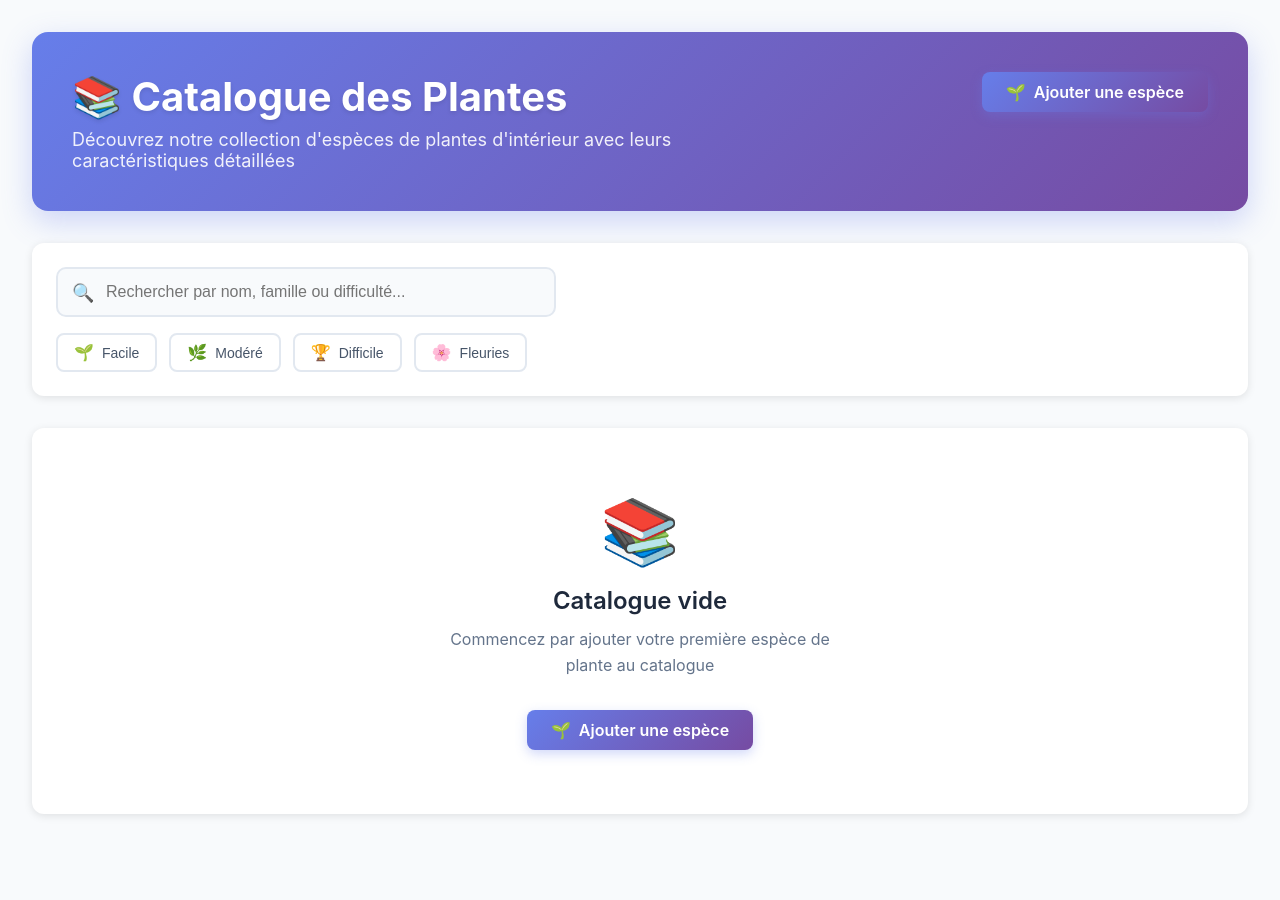
IndoorPlants.vue › affiche le formulaire d'ajout
Step 1. Click the button "🌱 Ajouter une espèce" in the row of "📚 Catalogue des Plantes" → x=1095, y=92, box [982,72,1208,112]
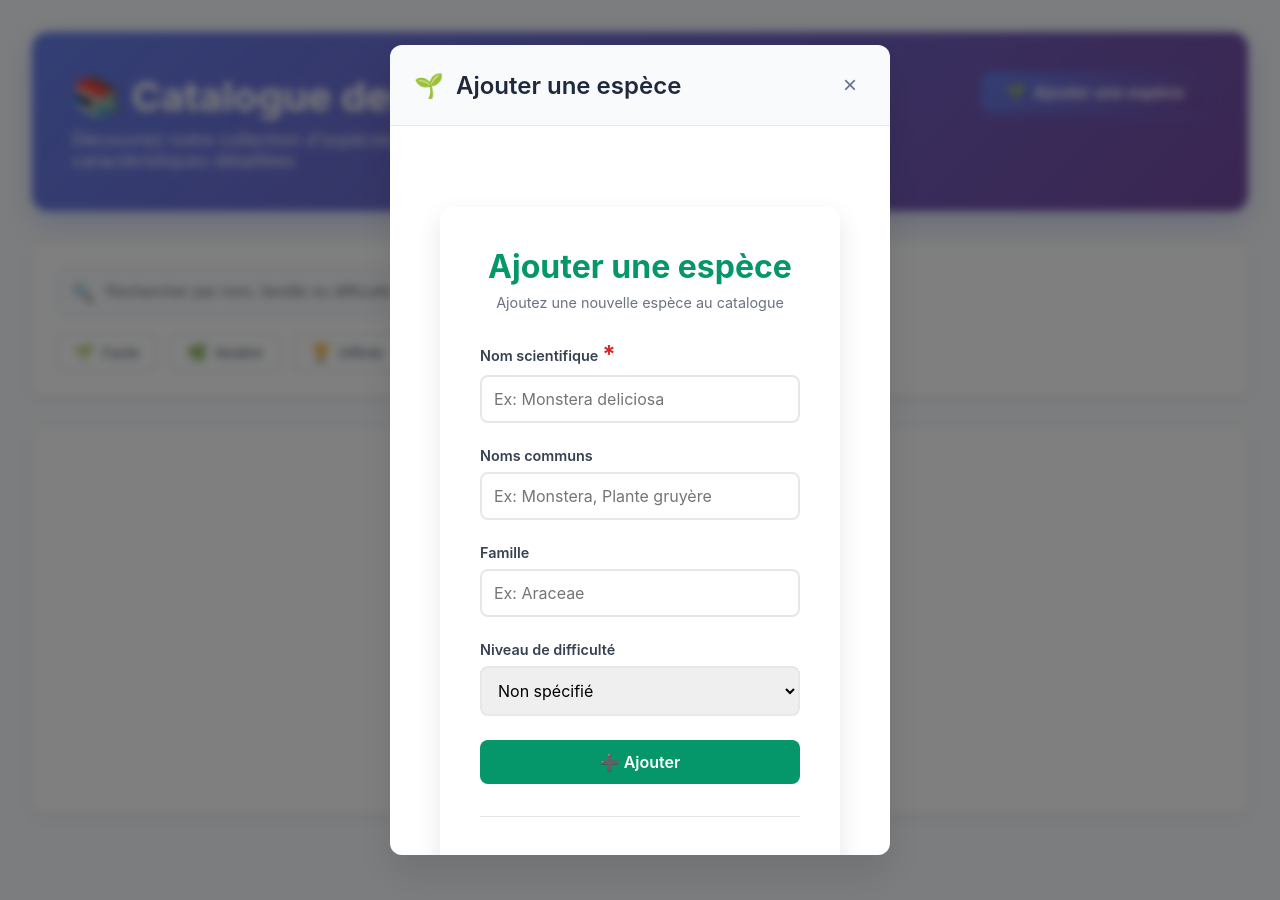
Result: the form is shown at [480,343,800,784]
